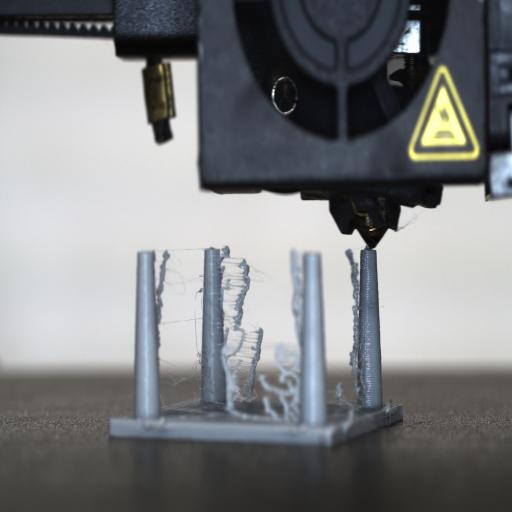stringing: (148, 244, 356, 425)
